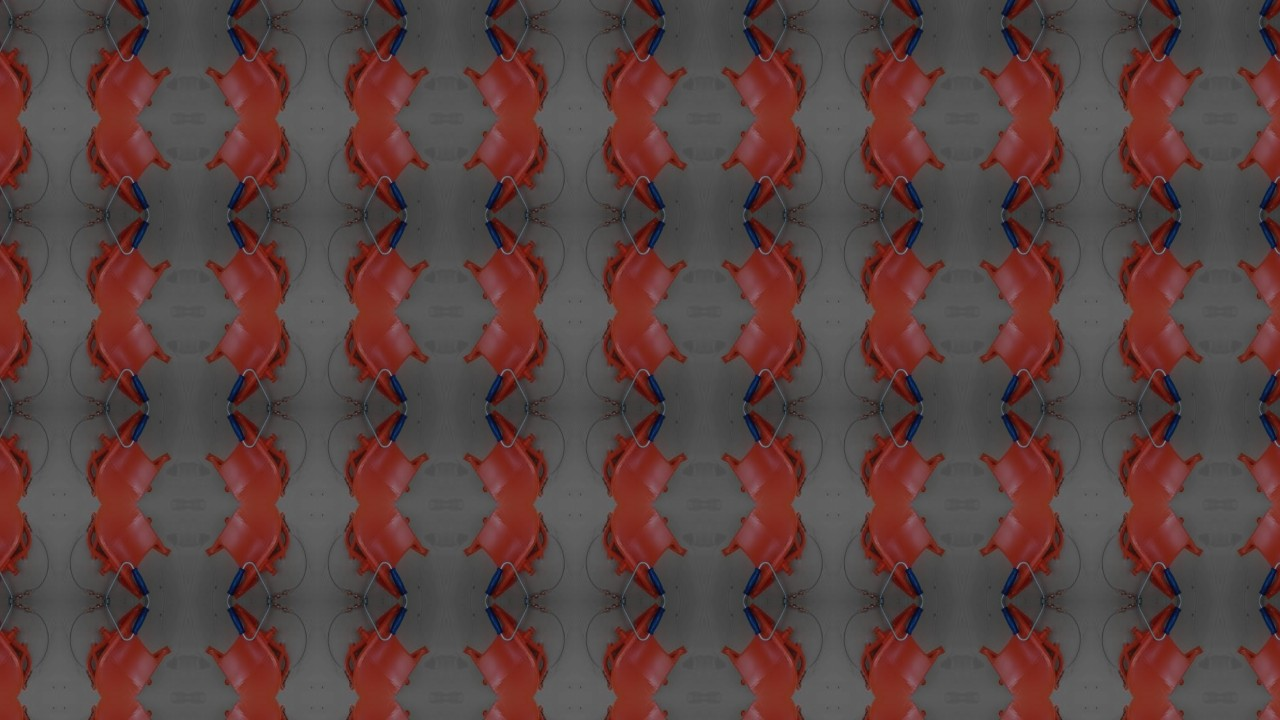chock: (79, 20, 176, 117), (197, 20, 294, 117), (338, 20, 435, 117), (456, 20, 553, 117), (597, 20, 694, 117), (715, 20, 812, 117), (856, 20, 953, 117), (974, 20, 1071, 117), (1115, 20, 1212, 117), (79, 118, 176, 215), (197, 118, 294, 215), (338, 118, 435, 215), (456, 118, 553, 215), (597, 118, 694, 215), (715, 118, 812, 215), (856, 118, 953, 215), (974, 118, 1071, 215), (1115, 118, 1212, 215), (79, 215, 176, 312), (197, 215, 294, 312), (338, 215, 435, 312), (456, 215, 553, 312), (597, 215, 694, 312), (715, 215, 812, 312), (856, 215, 953, 312), (974, 215, 1071, 312), (1115, 215, 1212, 312), (79, 408, 176, 505), (197, 408, 294, 505), (338, 408, 435, 505), (456, 408, 553, 505), (597, 408, 694, 505), (715, 408, 812, 505), (856, 408, 953, 505), (974, 408, 1071, 505), (1115, 408, 1212, 505), (79, 505, 176, 602), (197, 505, 294, 602), (338, 505, 435, 602), (456, 505, 553, 602), (597, 505, 694, 602), (715, 505, 812, 602), (856, 505, 953, 602), (974, 505, 1071, 602), (1115, 505, 1212, 602), (79, 603, 176, 700), (197, 603, 294, 700), (338, 603, 435, 700), (456, 603, 553, 700), (597, 603, 694, 700), (715, 603, 812, 700), (856, 603, 953, 700), (974, 603, 1071, 700), (1115, 603, 1212, 700), (79, 312, 176, 408), (197, 312, 294, 408), (338, 312, 435, 408), (456, 312, 553, 408), (597, 312, 694, 408), (715, 312, 812, 408), (856, 312, 953, 408), (974, 312, 1071, 408), (1115, 312, 1212, 408), (1233, 20, 1280, 117), (1233, 118, 1280, 215), (1233, 215, 1280, 312), (1233, 408, 1280, 505), (1233, 505, 1280, 602), (1233, 603, 1280, 700), (1233, 312, 1280, 408), (0, 20, 35, 117), (0, 118, 35, 215), (0, 215, 35, 312), (0, 408, 35, 505), (0, 505, 35, 602), (0, 603, 35, 700), (0, 312, 35, 408), (79, 0, 176, 20), (197, 0, 294, 20), (338, 0, 435, 20), (456, 0, 553, 20), (597, 0, 694, 20), (715, 0, 812, 20), (856, 0, 953, 20), (974, 0, 1071, 20), (1115, 0, 1212, 20), (79, 700, 176, 720), (197, 700, 294, 720), (338, 700, 435, 720), (456, 700, 553, 720), (597, 700, 694, 720), (715, 700, 812, 720), (856, 700, 953, 720), (974, 700, 1071, 720), (1115, 700, 1212, 720), (1233, 0, 1280, 20), (1233, 700, 1280, 720)
